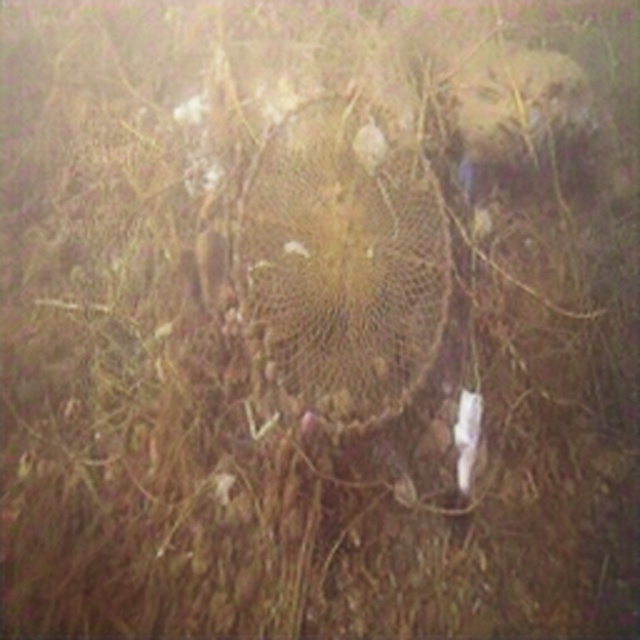mine: (231, 86, 457, 439)
